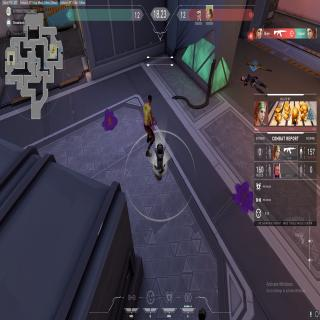ENEMY-BODY: (142, 92, 157, 159)
ENEMY-HEAD: (148, 93, 152, 104)
